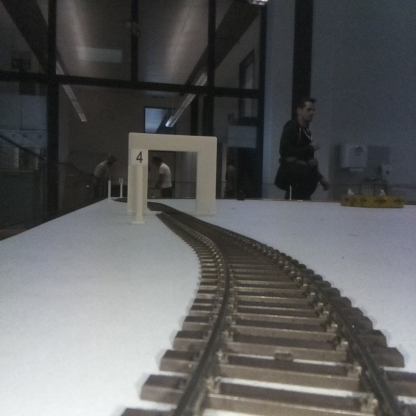white-info-4: (131, 147, 147, 223)
